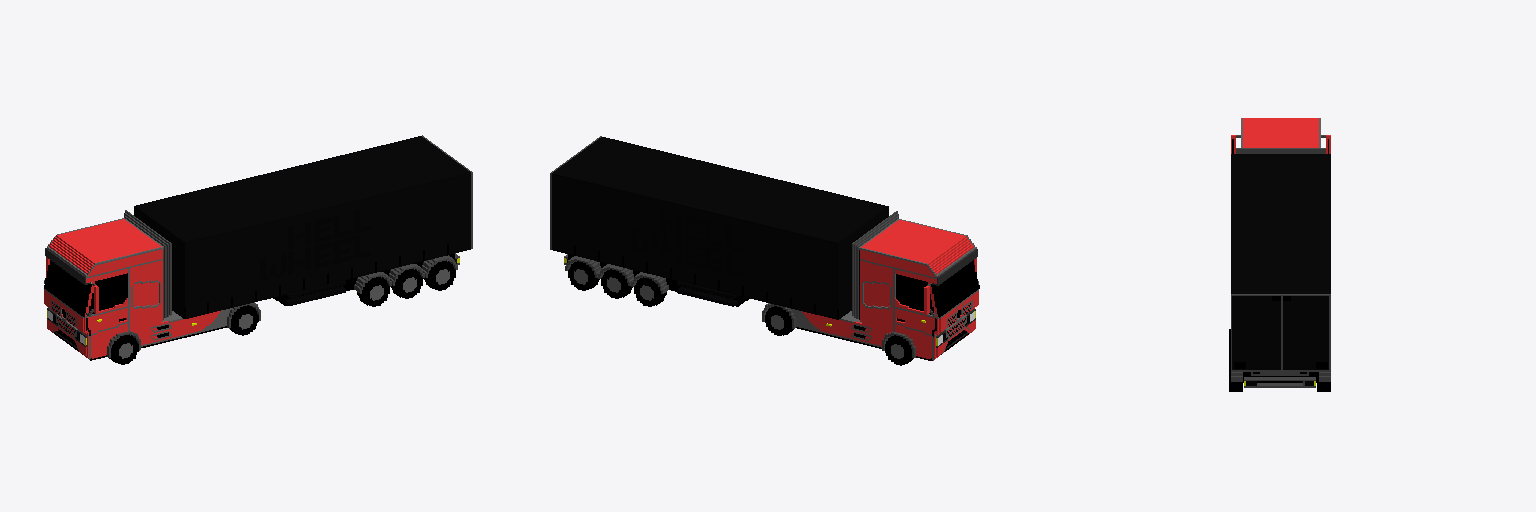
3 renders of one model, left to right at view 1: azimuth 30°, elevation 25°; view 2: azimuth 150°, elevation 25°; view 3: azimuth 270°, elevation 25°, orthographic.
Visible parts, largest first — view 1: object 1; view 2: object 1; view 3: object 1.
Part boxes in pixels (left/top/right/bottom): object 1: left=44, top=135, right=472, bottom=364; object 1: left=550, top=136, right=979, bottom=365; object 1: left=1229, top=118, right=1330, bottom=391.
Size of the model in its own units: 25.6 by 7 by 5.9.
Materials: 1 (1 with a texture image).